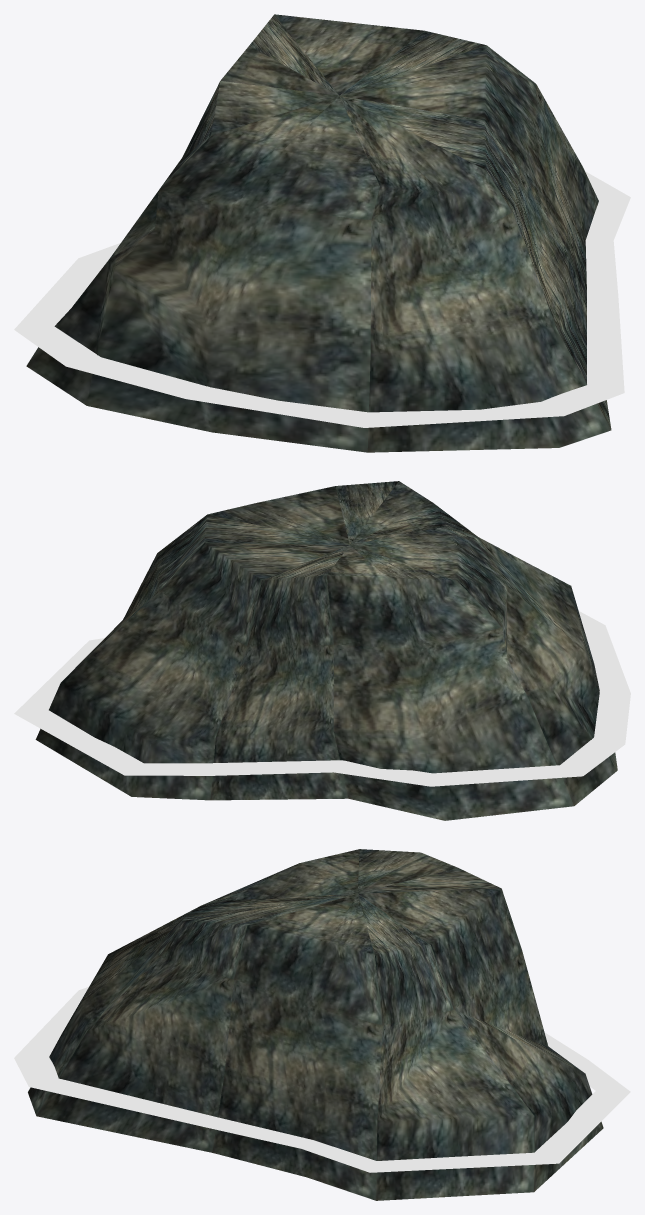
File: pir_m_are_isl_rockMed_dock_lod.fbx
The picture shows the model from 3 angles, top to bottom: view 1: azimuth 30°, elevation 25°; view 2: azimuth 150°, elevation 25°; view 3: azimuth 270°, elevation 25°; orthographic projection. The views are drawn at different scales.
Parts seen in each view (by area): view 1: terrain_mesh, mesh_tide3; view 2: terrain_mesh, mesh_tide3; view 3: terrain_mesh, mesh_tide3.
Part boxes in pixels (x1,y1,x2,y2): terrain_mesh: [26, 14, 611, 452]; mesh_tide3: [14, 171, 630, 427]; terrain_mesh: [35, 481, 617, 820]; mesh_tide3: [14, 611, 630, 786]; terrain_mesh: [28, 849, 603, 1200]; mesh_tide3: [14, 987, 630, 1172].
Bounding box in the file's own units: 76461 × 28528 × 79610.
2 materials, 2 textured.
